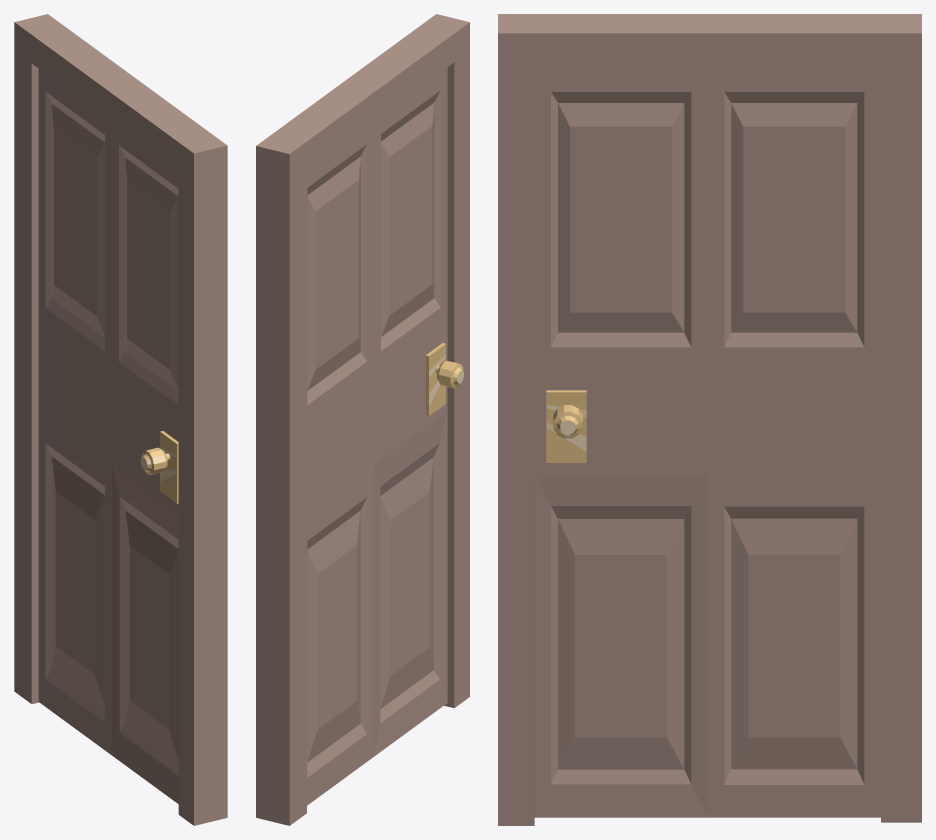
Rendered from wooden_pink_door_1.glb.
The picture shows the model from 3 angles, left to right: view 1: azimuth 30°, elevation 25°; view 2: azimuth 150°, elevation 25°; view 3: azimuth 270°, elevation 25°; orthographic projection. The views are drawn at different scales.
Parts seen in each view (by area): view 1: group1559002970, group1708765680; view 2: group1559002970, group1708765680; view 3: group1559002970, group1708765680.
Boxes of the visible parts, left/top/right/bottom form: group1559002970: left=38, top=69, right=178, bottom=803; group1708765680: left=14, top=14, right=227, bottom=825; group1559002970: left=307, top=67, right=463, bottom=805; group1708765680: left=256, top=14, right=469, bottom=825; group1559002970: left=534, top=67, right=880, bottom=817; group1708765680: left=498, top=14, right=921, bottom=825.
Bounding box in the file's own units: 0.2187 × 1.92 × 0.93.
